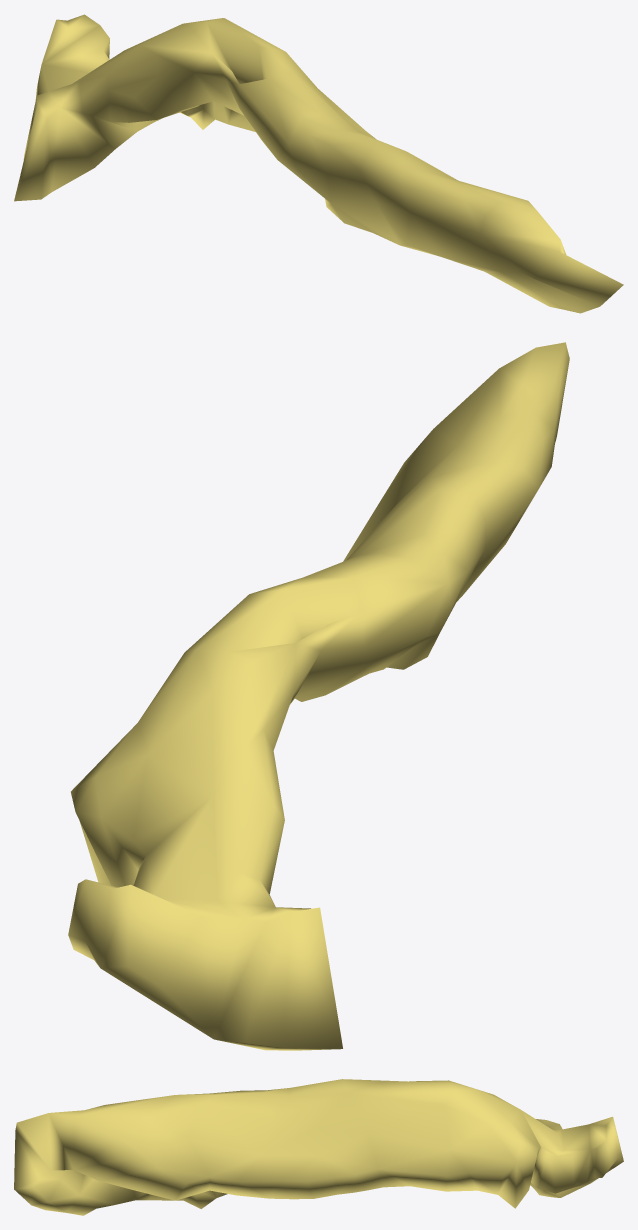
The model's file is olfactory-sulcus-r.glb.
3 views of the same model, one above another, from view 1: azimuth 30°, elevation 25°; view 2: azimuth 150°, elevation 25°; view 3: azimuth 270°, elevation 25° (orthographic). The views are drawn at different scales.
Visible parts, largest first — view 1: Olfactory sulcus.r; view 2: Olfactory sulcus.r; view 3: Olfactory sulcus.r.
Boxes of the visible parts, x1,y1,x2,y2 form: Olfactory sulcus.r: (14, 14, 623, 313); Olfactory sulcus.r: (68, 342, 569, 1050); Olfactory sulcus.r: (14, 1079, 623, 1215).
Size of the model in its own units: 0.0213 by 0.0158 by 0.0575.
